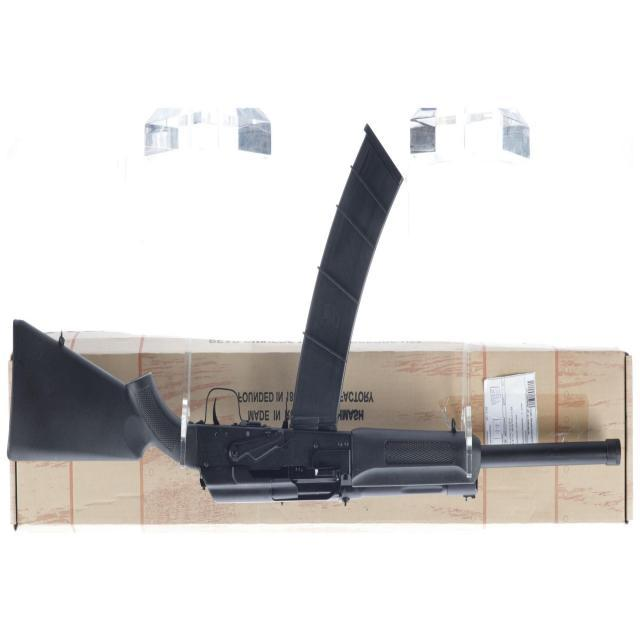weapon: (5, 120, 623, 505)
